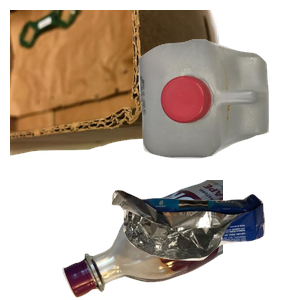cardboard: (10, 10, 237, 158)
glass: (60, 180, 300, 300)
plastic: (136, 37, 300, 188)
trash: (109, 187, 300, 300)
